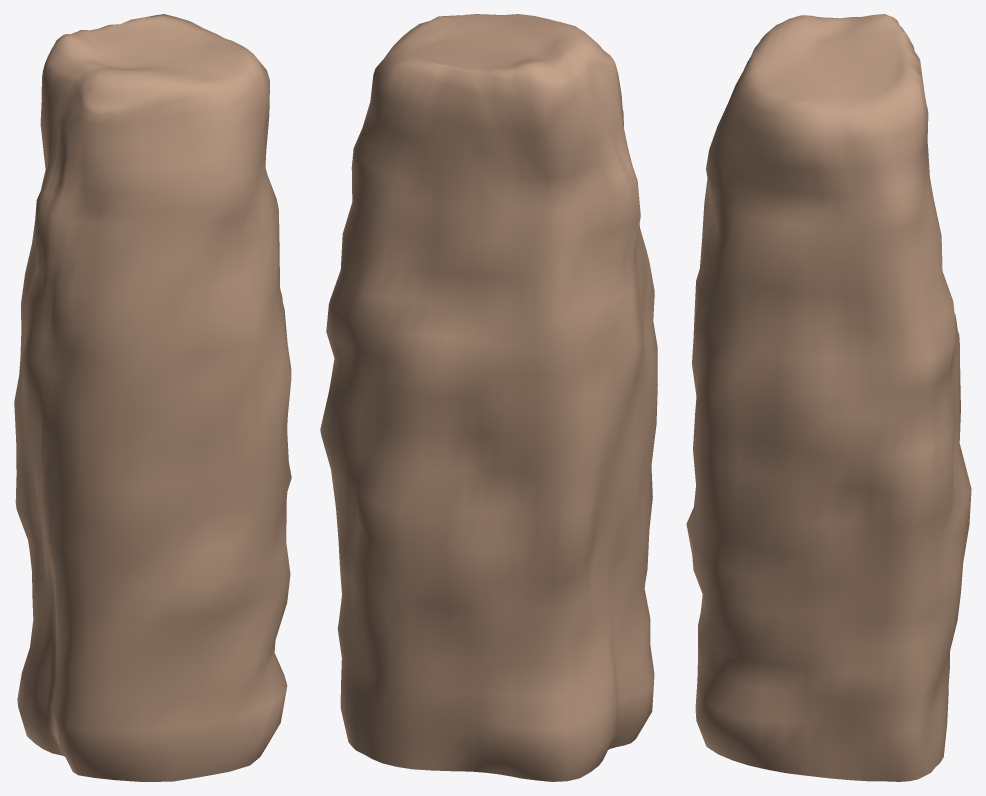
The model's file is SM_Island6.1_L.fbx.
3 renders of one model, left to right at view 1: azimuth 30°, elevation 25°; view 2: azimuth 150°, elevation 25°; view 3: azimuth 270°, elevation 25°, orthographic. The views are drawn at different scales.
Visible parts, largest first — view 1: Line015; view 2: Line015; view 3: Line015.
Boxes of the visible parts, x1=… form: Line015: x1=14, y1=14, x2=291, y2=781; Line015: x1=320, y1=14, x2=657, y2=781; Line015: x1=686, y1=14, x2=971, y2=781.
Bounding box in the file's own units: 804 × 2013 × 758.
